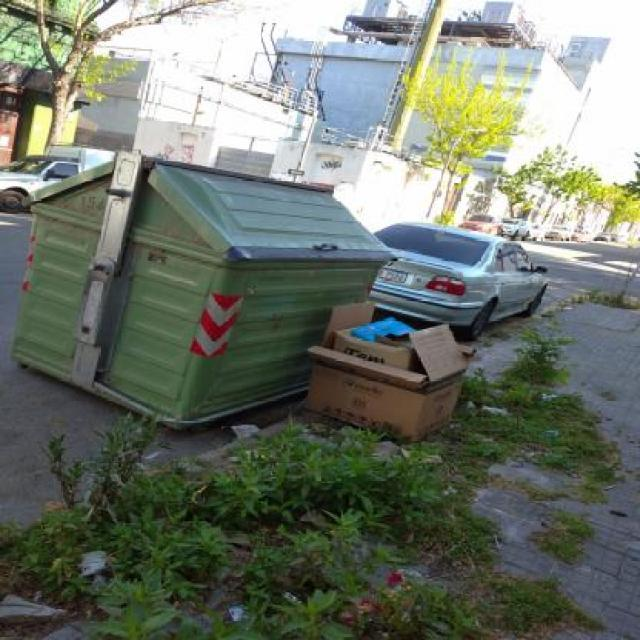garbage: (46, 526, 529, 639), (259, 286, 486, 458), (305, 305, 500, 445), (473, 365, 569, 503)
